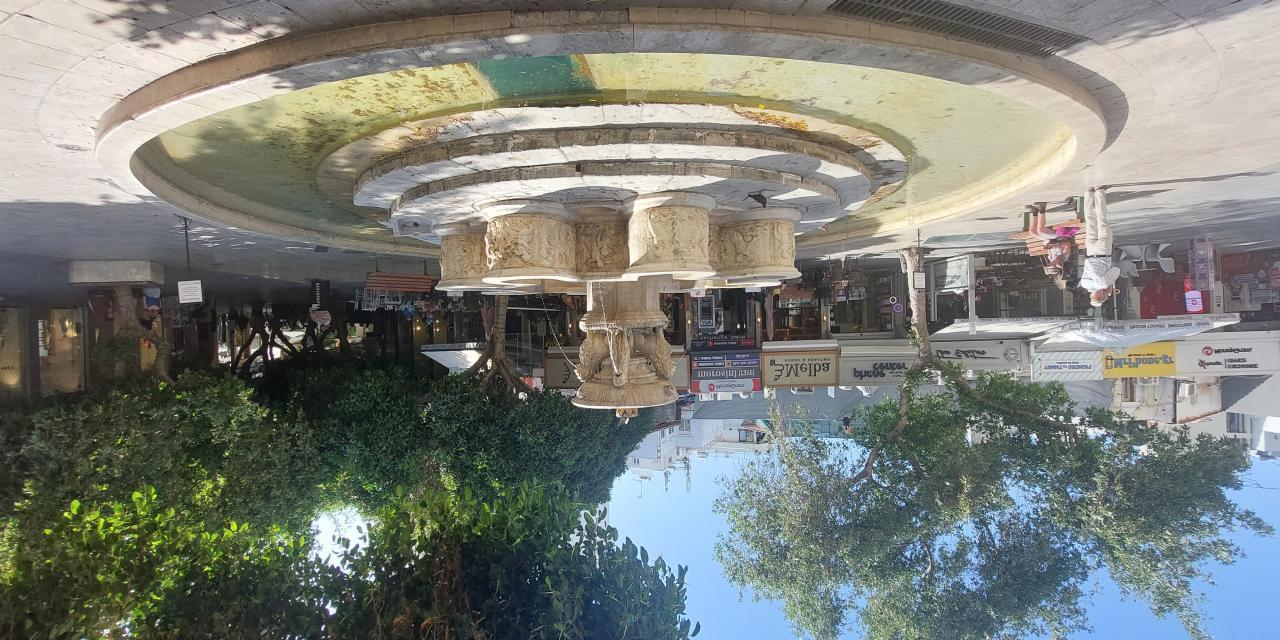Liontaria: (434, 188, 808, 416)
